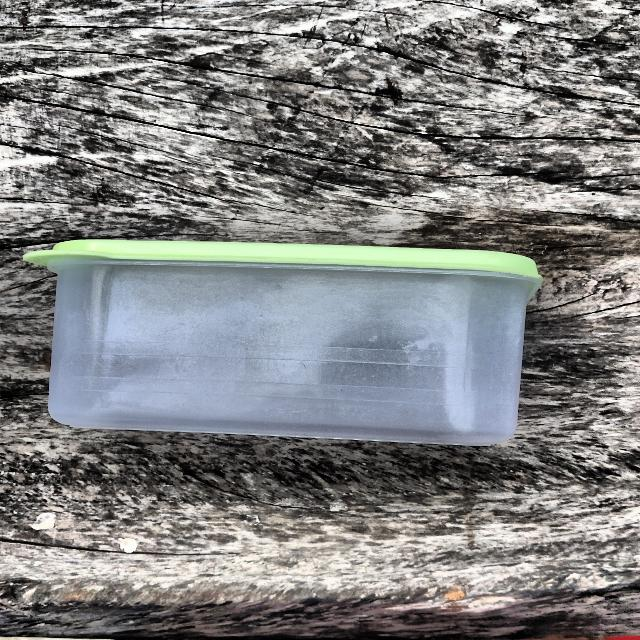plastic container: (12, 220, 562, 461)
